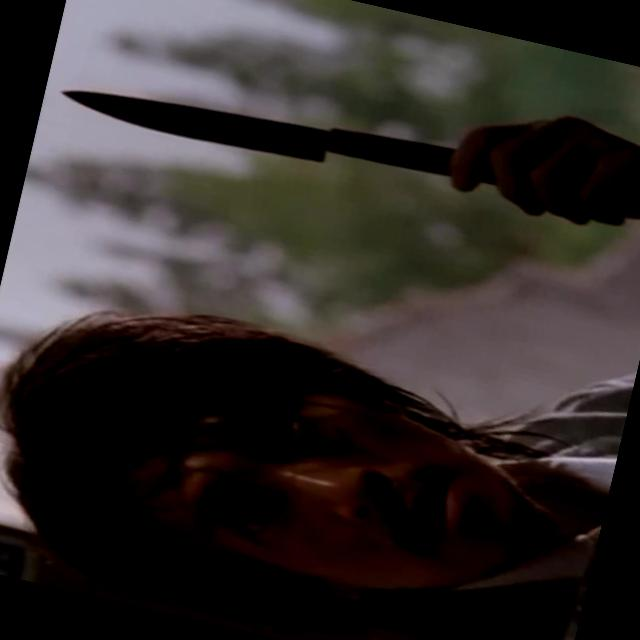knife: (43, 46, 536, 228)
